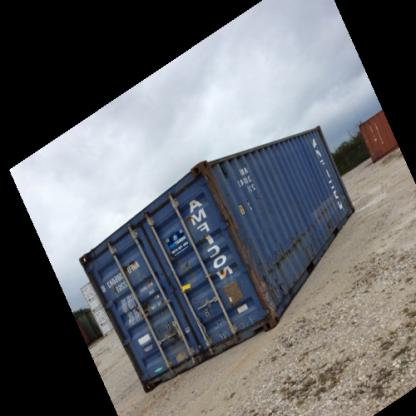Damage: (201, 173, 249, 253), (262, 229, 298, 299), (317, 199, 345, 236), (129, 292, 159, 321), (169, 247, 193, 276), (213, 261, 233, 288)
